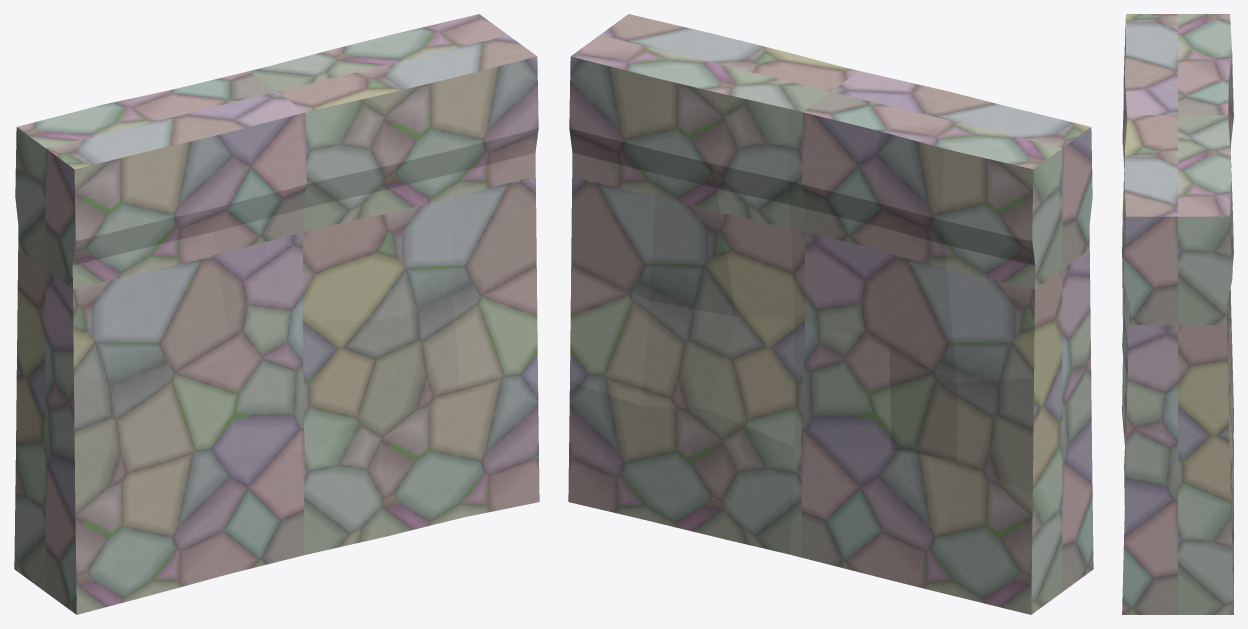
The picture shows the model from 3 angles, left to right: view 1: azimuth 30°, elevation 25°; view 2: azimuth 150°, elevation 25°; view 3: azimuth 270°, elevation 25°; orthographic projection. The views are drawn at different scales.
Parts seen in each view (by area): view 1: 석축_이끼; view 2: 석축_이끼; view 3: 석축_이끼.
Part boxes in pixels (x1,y1,x2,y2): 석축_이끼: (14, 14, 539, 614); 석축_이끼: (568, 14, 1093, 614); 석축_이끼: (1122, 14, 1233, 614).
Bounding box in the file's own units: 600 × 550 × 140.
1 material, 1 textured.
